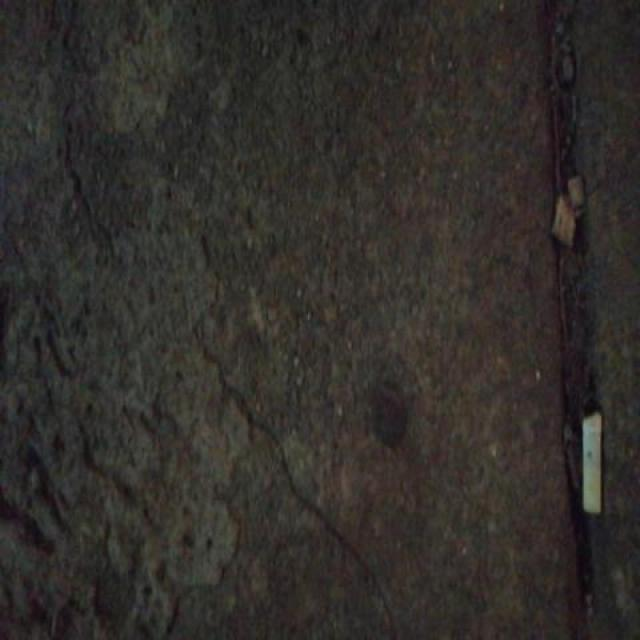non-organic waste: (581, 408, 603, 517)
